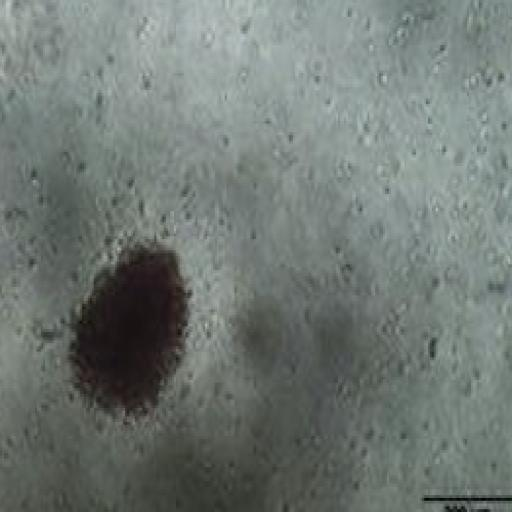BFU-E: (68, 245, 188, 411)
